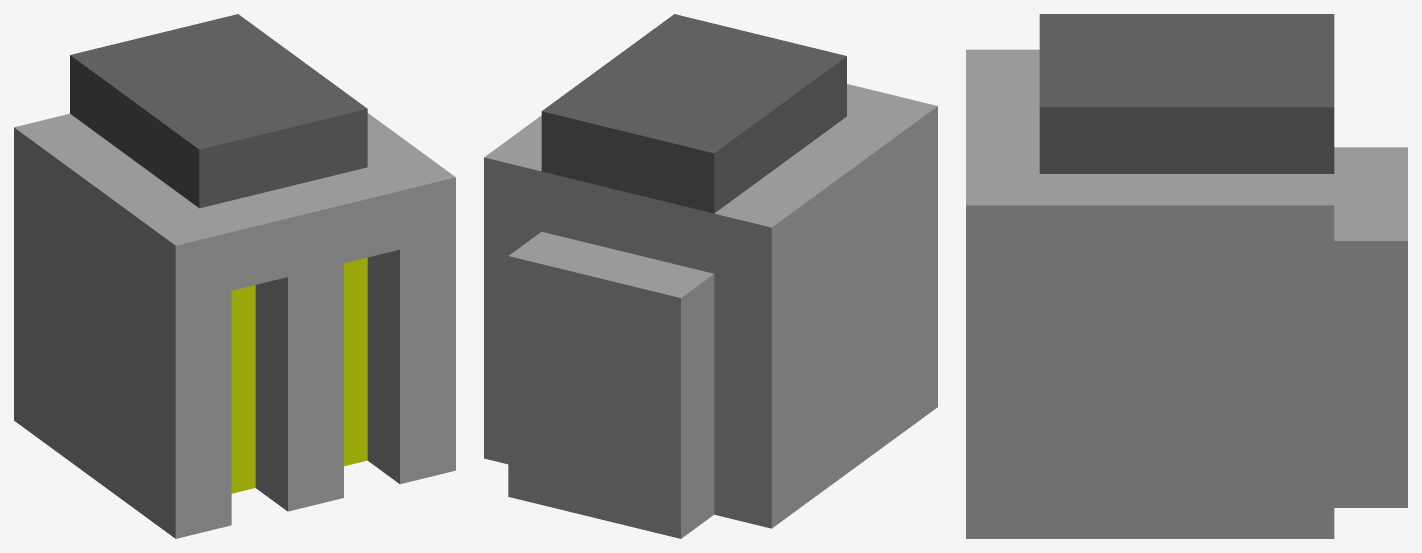
The picture shows the model from 3 angles, left to right: view 1: azimuth 30°, elevation 25°; view 2: azimuth 150°, elevation 25°; view 3: azimuth 270°, elevation 25°; orthographic projection. The views are drawn at different scales.
Parts seen in each view (by area): view 1: SM_box_01a; view 2: SM_box_01a; view 3: SM_box_01a.
Boxes of the visible parts, x1,y1,x2,y2 form: SM_box_01a: (14,14,455,538); SM_box_01a: (484,14,937,538); SM_box_01a: (966,14,1407,538).
Size of the model in its own units: 5 by 6 by 6.
